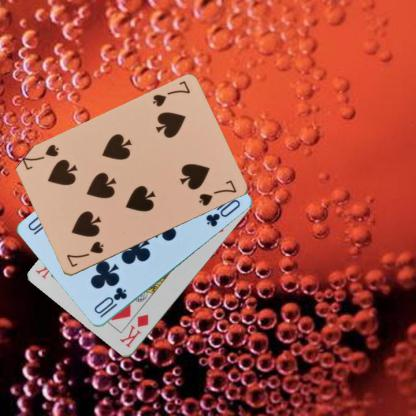10c: (91, 285, 129, 319)
7s: (150, 78, 191, 109), (64, 238, 105, 268)
Kd: (118, 311, 150, 349)
